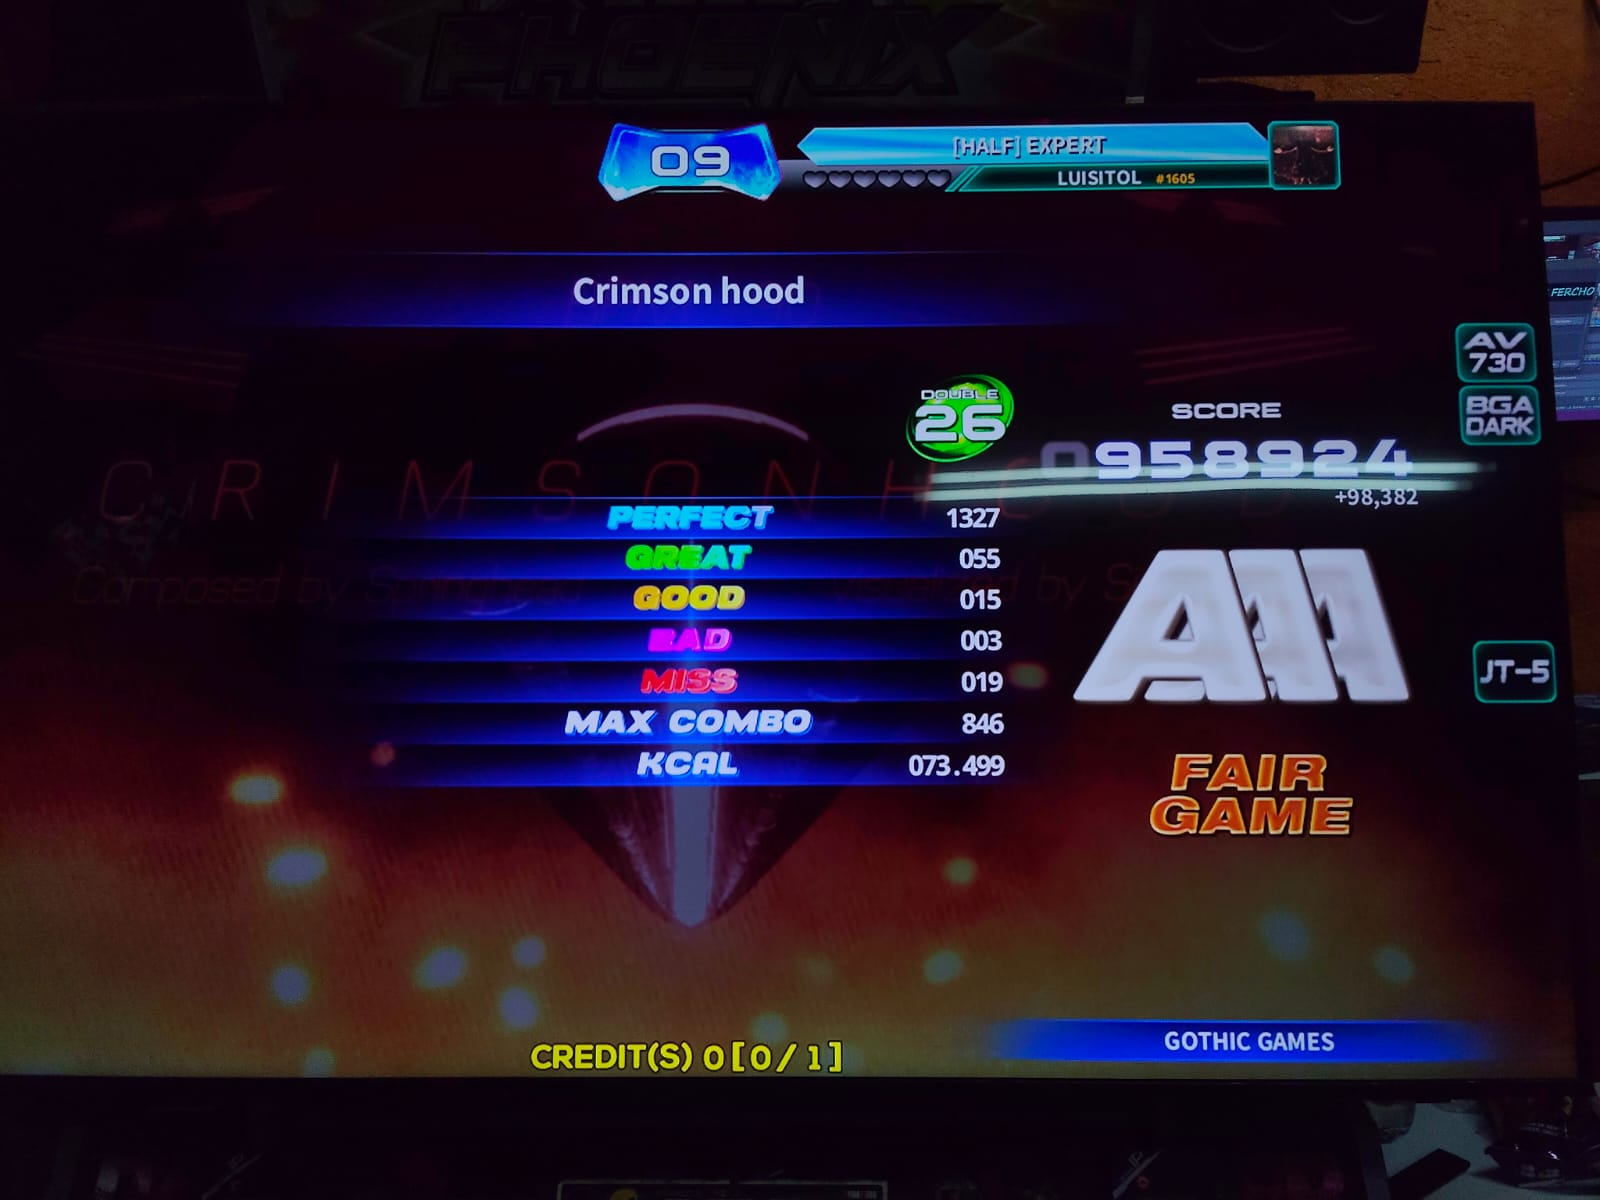difficulty: (916, 368, 1009, 479)
fullscore: (552, 101, 1524, 1027)
rank: (1068, 518, 1429, 739)
score: (1029, 401, 1450, 500)
song_name: (382, 237, 1099, 320)
